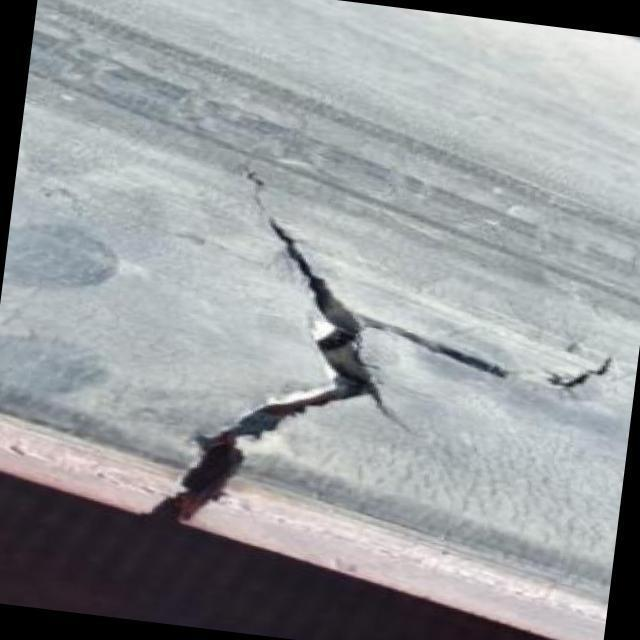Tear: (142, 160, 514, 548), (540, 340, 634, 395)
